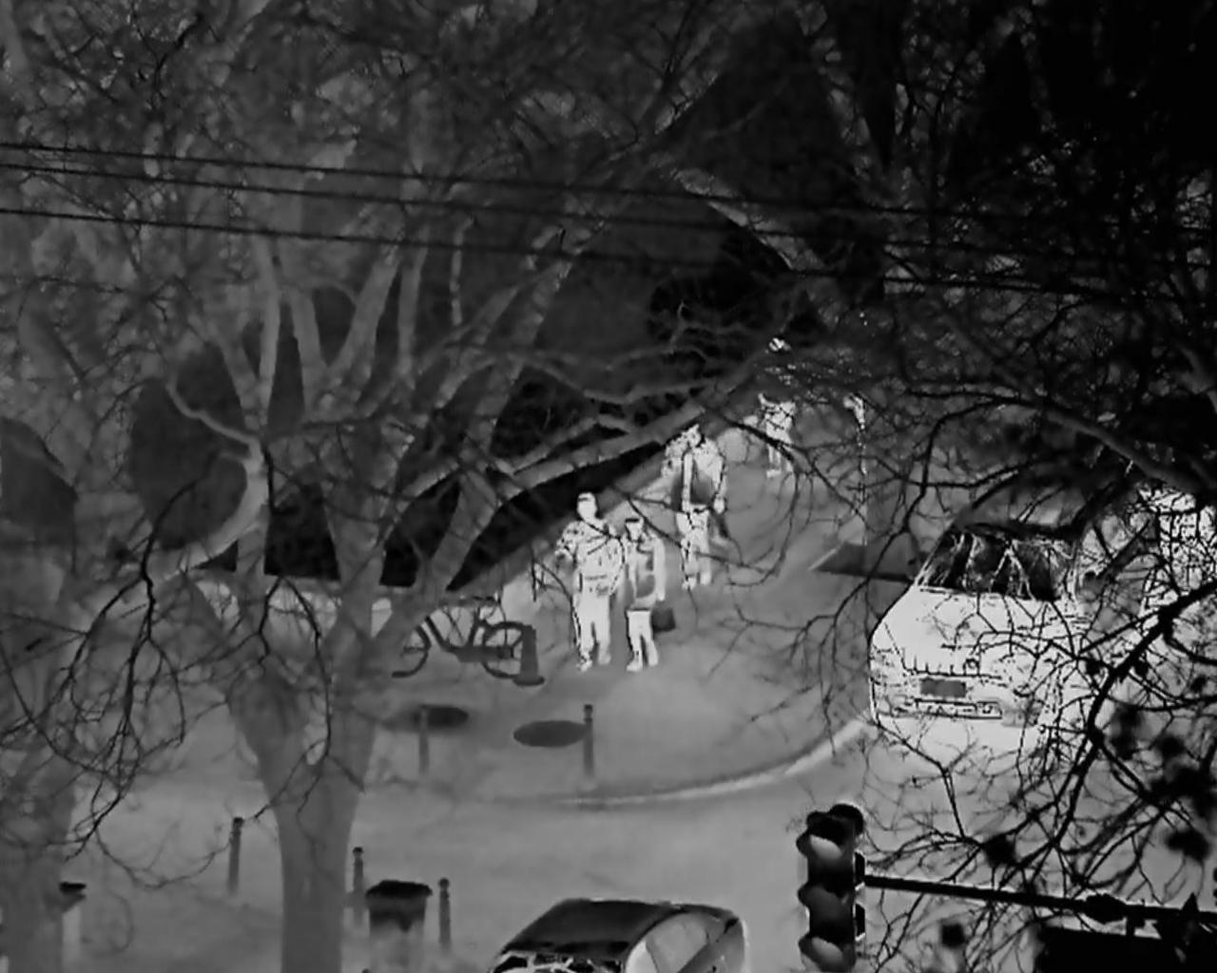person: (555, 490, 622, 672), (663, 425, 727, 588), (619, 512, 666, 672)
